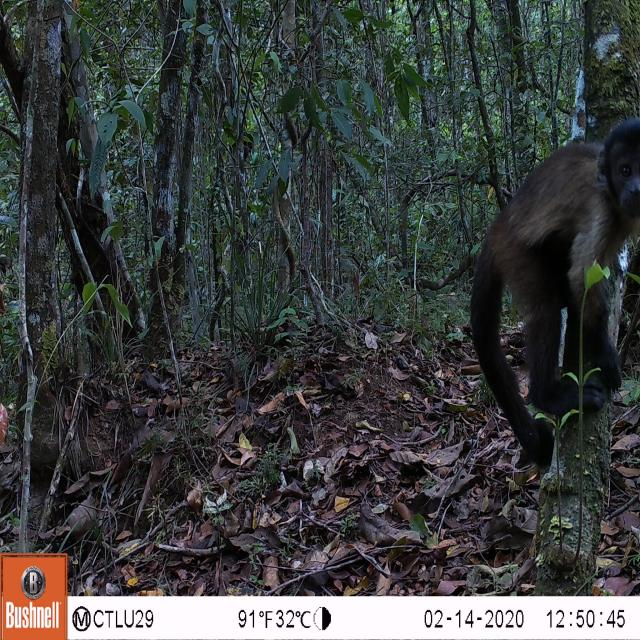Margarita Island Capuchin: (470, 114, 638, 451)
